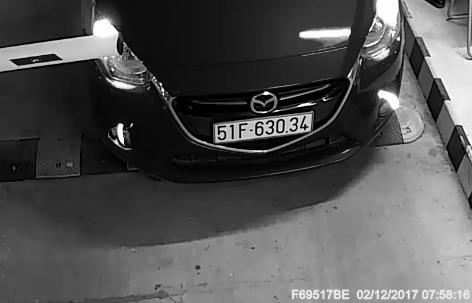License-plate: (210, 112, 318, 152)
